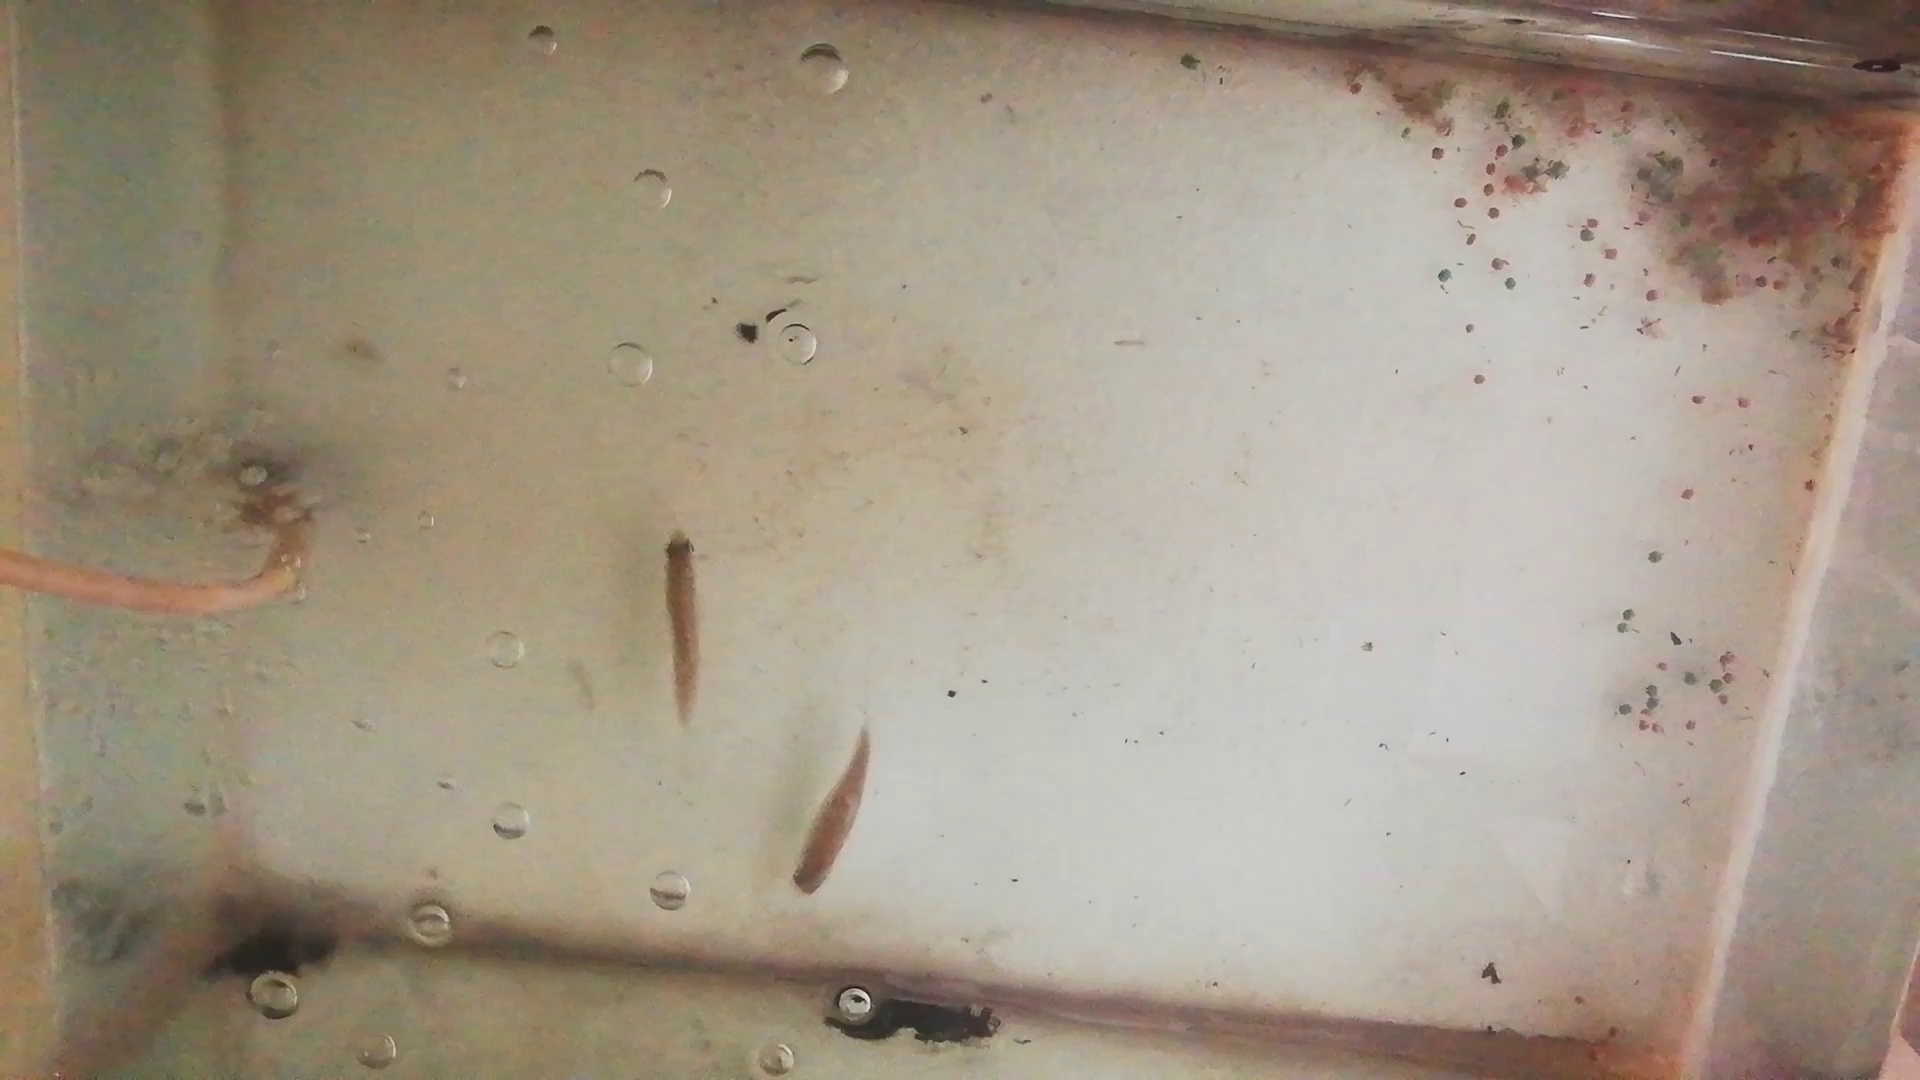fish: (789, 731, 878, 897), (658, 527, 713, 731)
